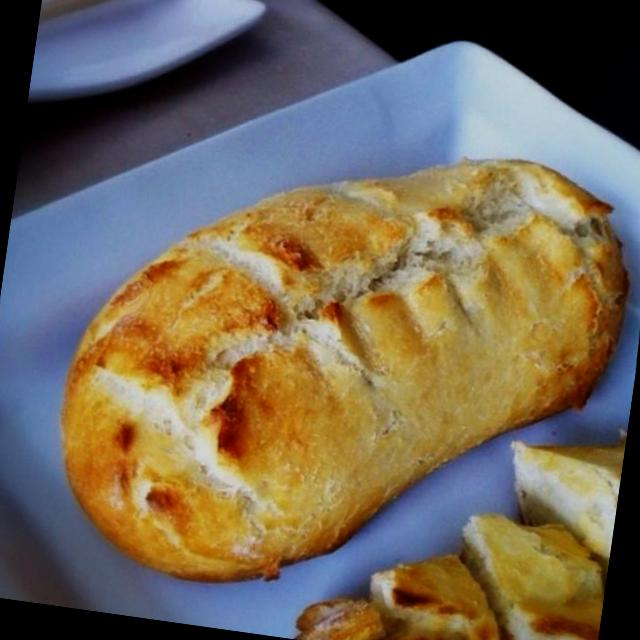Bread: (23, 84, 640, 640)
